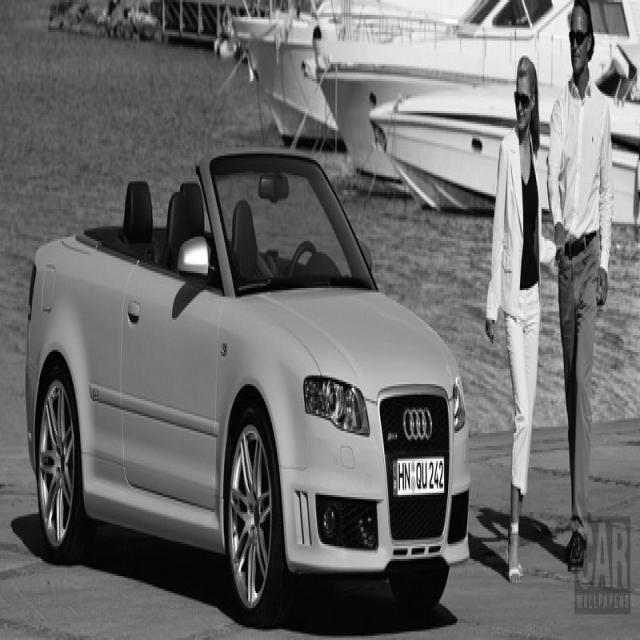car: (25, 147, 471, 627)
plat_license: (392, 450, 446, 500)
